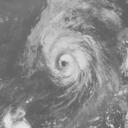cyclone: (23, 1, 119, 97)
